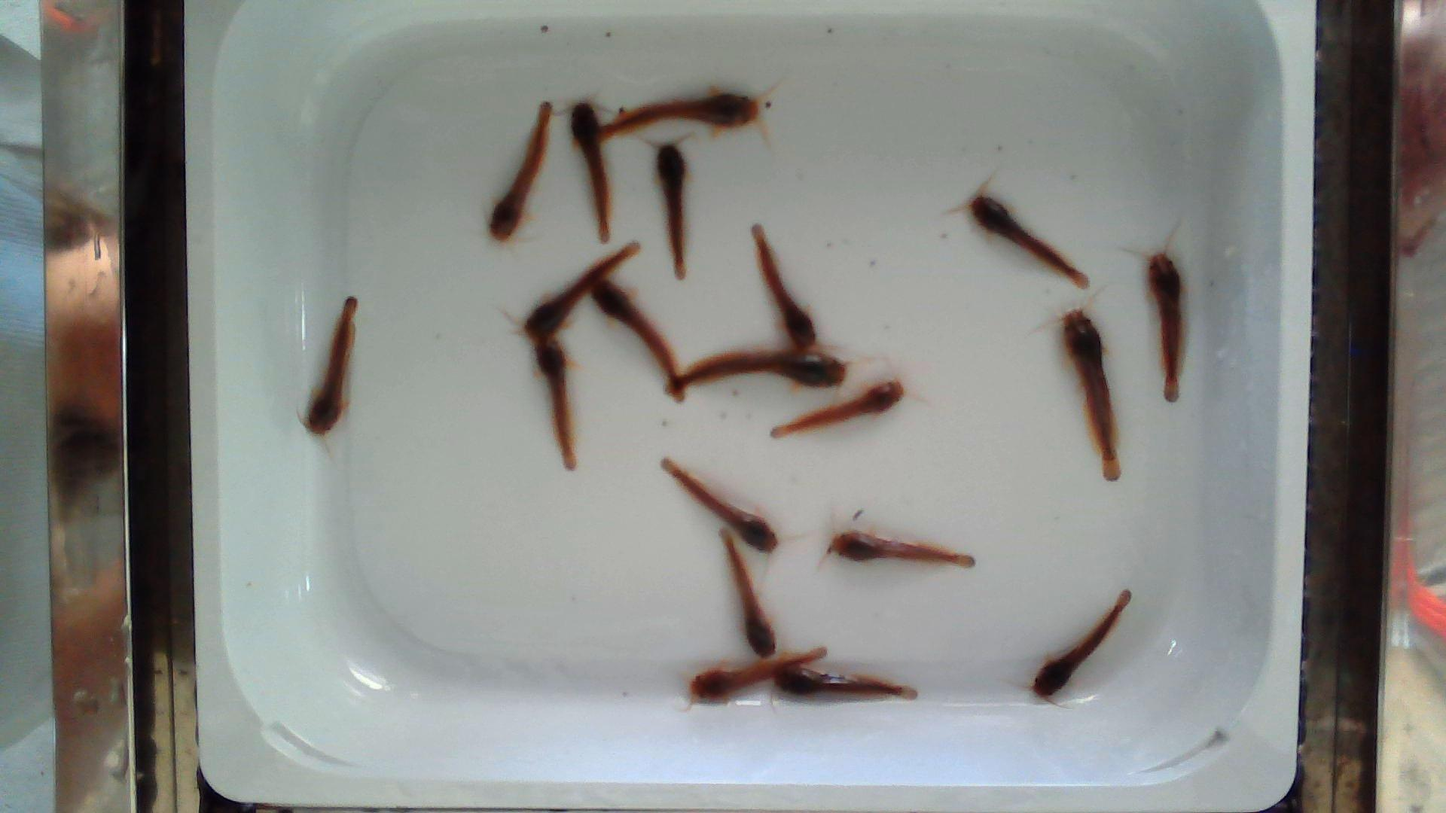lele: (969, 191, 1088, 287), (1032, 590, 1130, 703), (592, 279, 682, 400), (663, 458, 777, 552), (528, 243, 634, 342), (1063, 310, 1118, 480), (490, 102, 551, 240), (602, 88, 767, 136), (752, 227, 814, 346), (720, 531, 776, 656), (306, 297, 357, 434), (771, 387, 901, 437), (684, 349, 845, 387), (689, 653, 822, 698), (828, 530, 975, 568), (571, 102, 610, 242), (1148, 254, 1184, 402), (535, 347, 577, 470), (773, 668, 916, 700), (656, 145, 688, 279), (1441, 18, 1445, 26), (1442, 2, 1445, 11)
